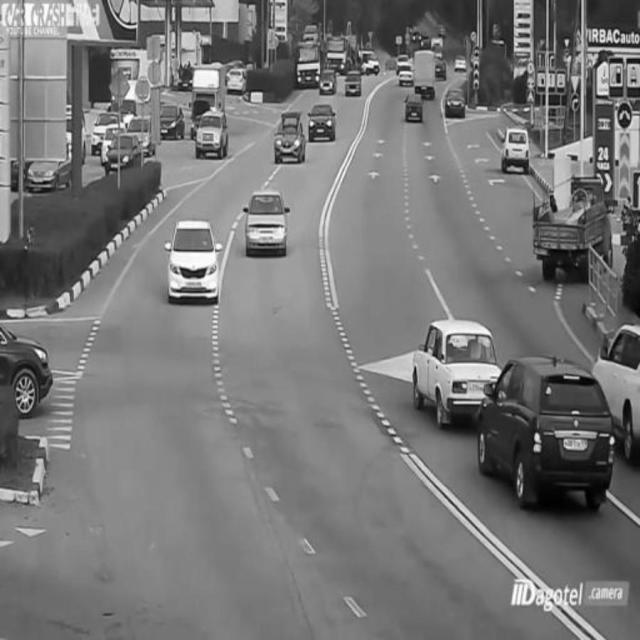vehicle: (479, 353, 613, 519), (405, 317, 508, 425), (536, 171, 613, 291), (0, 322, 60, 416), (601, 317, 640, 454), (166, 216, 220, 306), (243, 189, 290, 260), (276, 106, 306, 167), (199, 106, 229, 160), (107, 131, 145, 173), (502, 126, 532, 177), (409, 49, 439, 100), (292, 39, 320, 89), (306, 106, 340, 141), (154, 104, 184, 140), (444, 83, 468, 120), (402, 88, 424, 125), (395, 57, 417, 89), (343, 67, 363, 97), (319, 64, 337, 96)
